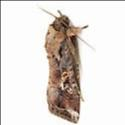army worm adult: (37, 7, 90, 124)
